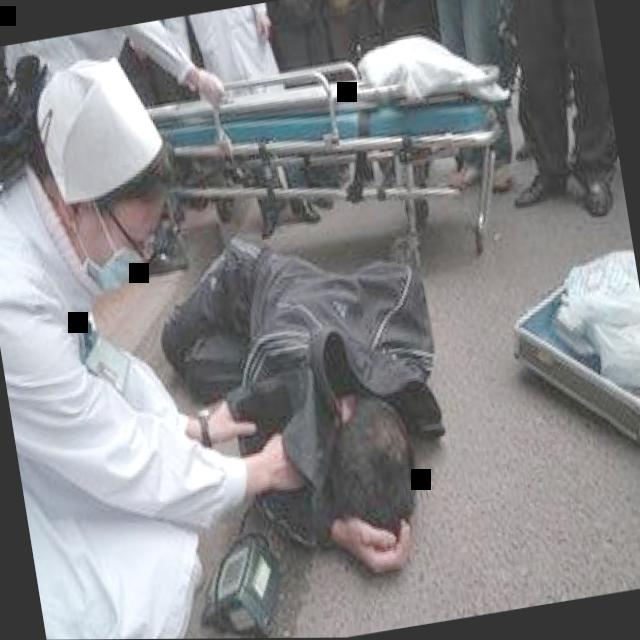Fall-Detected: (138, 162, 488, 613)
